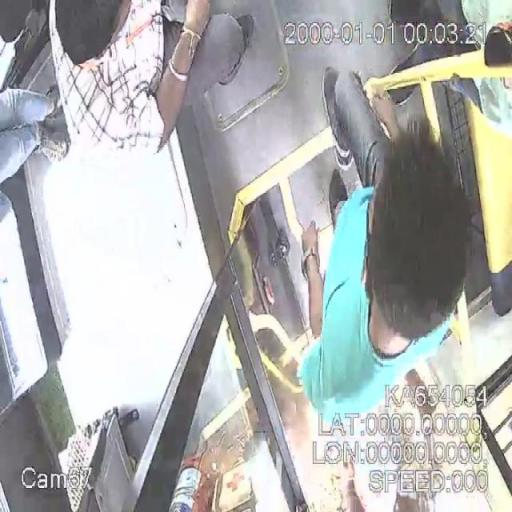persona: (296, 64, 476, 415), (45, 0, 272, 154)
